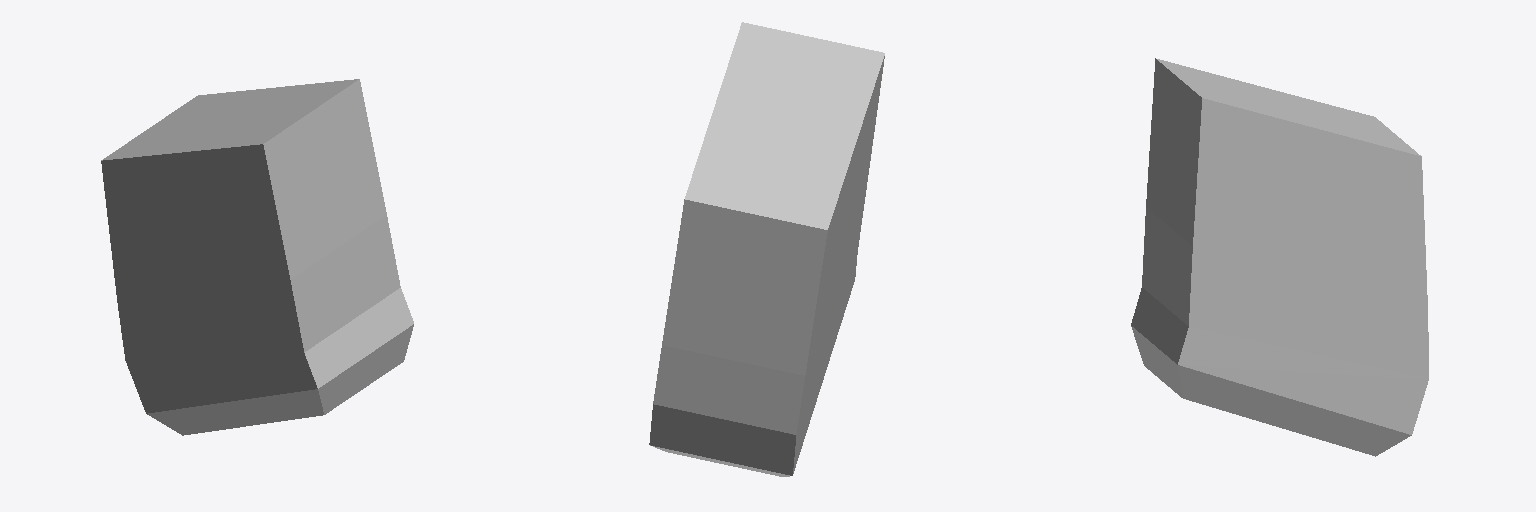
File: GunMagazine.obj
3 renders of one model, left to right at view 1: azimuth 30°, elevation 25°; view 2: azimuth 150°, elevation 25°; view 3: azimuth 270°, elevation 25°, orthographic.
Parts seen in each view (by area): view 1: Gun_Magazine_Mesh_Magazine_Cube.004; view 2: Gun_Magazine_Mesh_Magazine_Cube.004; view 3: Gun_Magazine_Mesh_Magazine_Cube.004.
Part boxes in pixels (x1,y1,x2,y2): Gun_Magazine_Mesh_Magazine_Cube.004: (101,79,413,435); Gun_Magazine_Mesh_Magazine_Cube.004: (649,22,884,476); Gun_Magazine_Mesh_Magazine_Cube.004: (1131,58,1428,456).
Bounding box in the file's own units: 0.0337 × 0.057 × 0.0406.